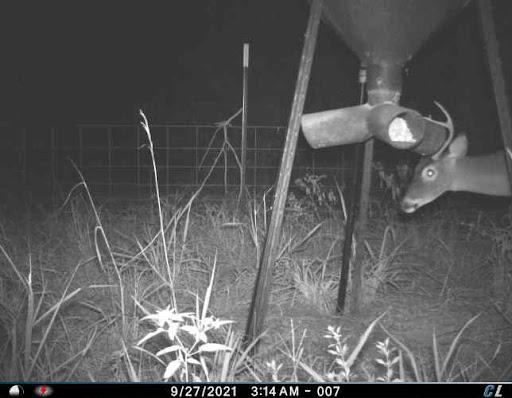Deer: (398, 91, 512, 226)
